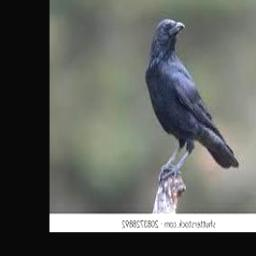Crow: (145, 18, 240, 173)
